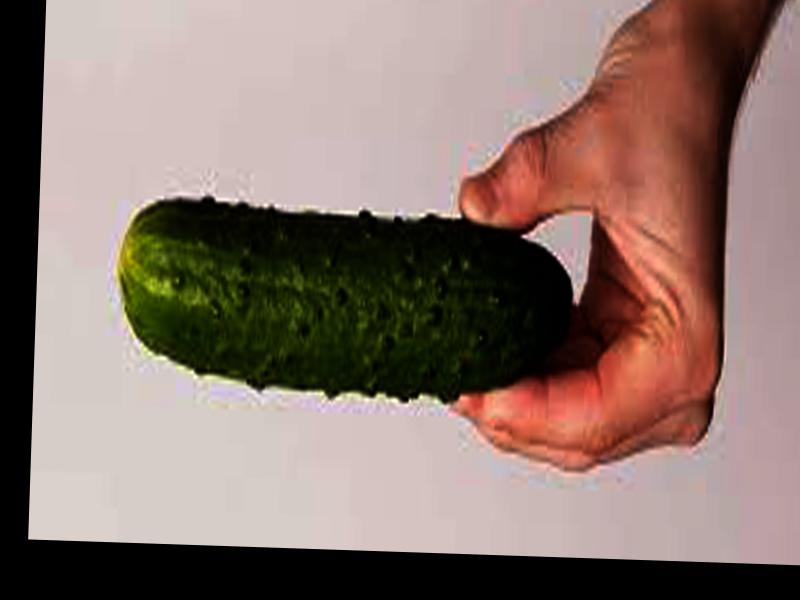Cucumber: (118, 211, 575, 402)
